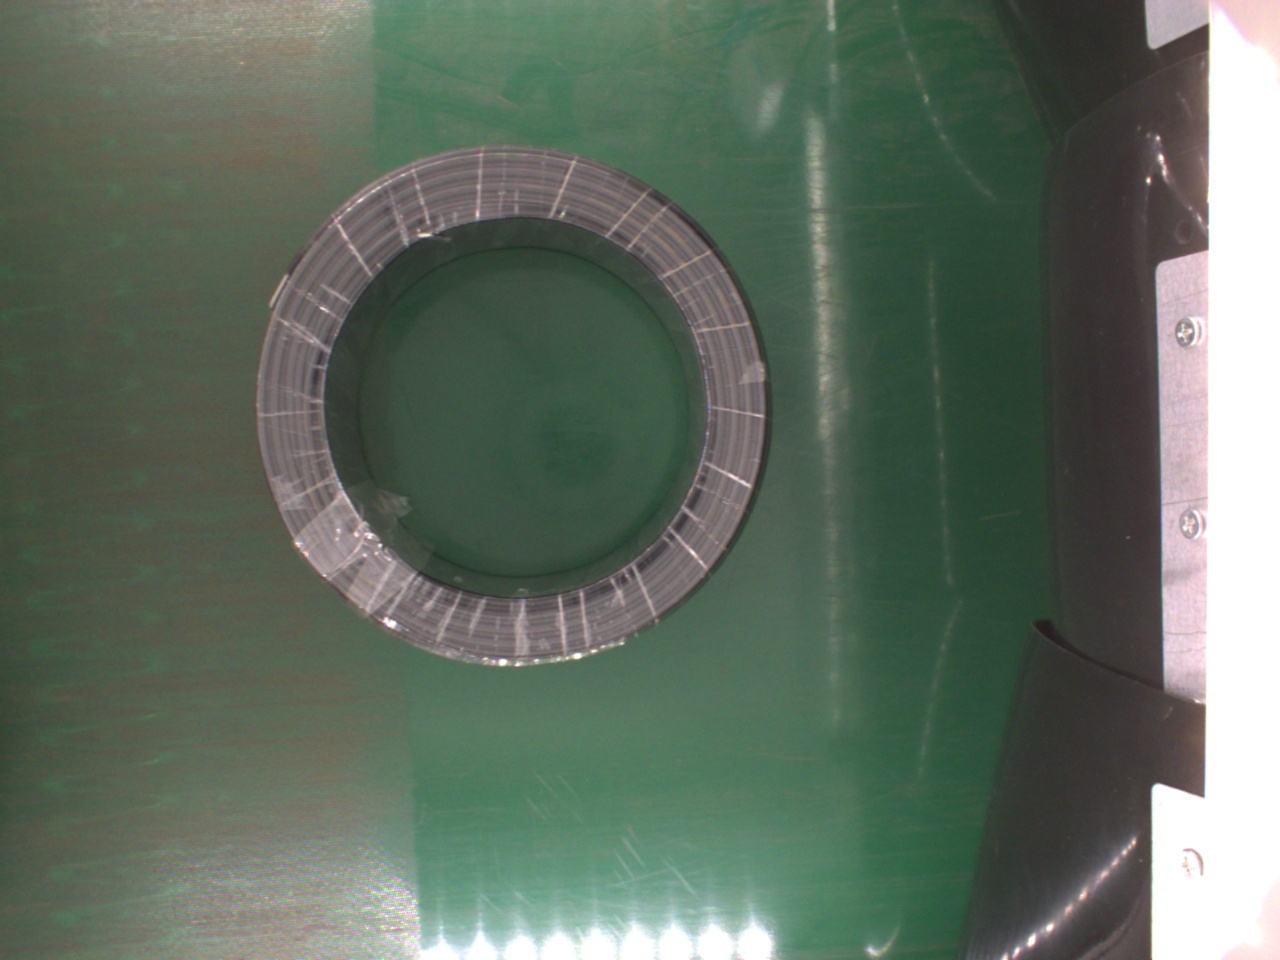black: (254, 146, 772, 665)
